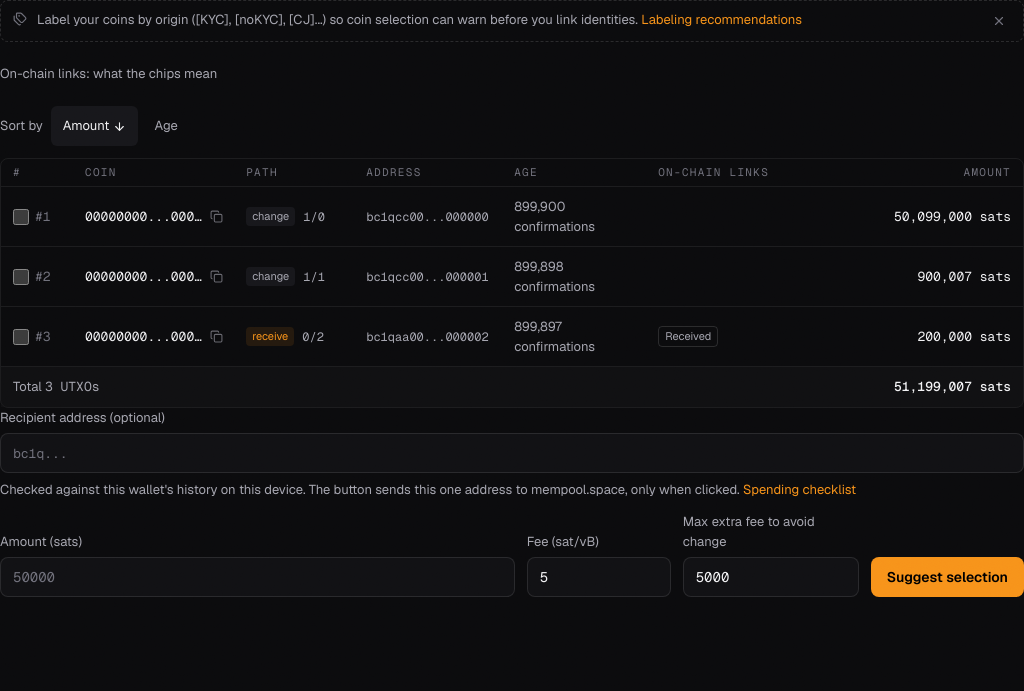
manual coin control › no clean option: Option A and Option B side by side, nothing recommended, and the bar names the option picked
The width and height of the screenshot is (1024, 691).
Click the checkbox labelled "#2" at (21, 276), box [13, 268, 29, 284]
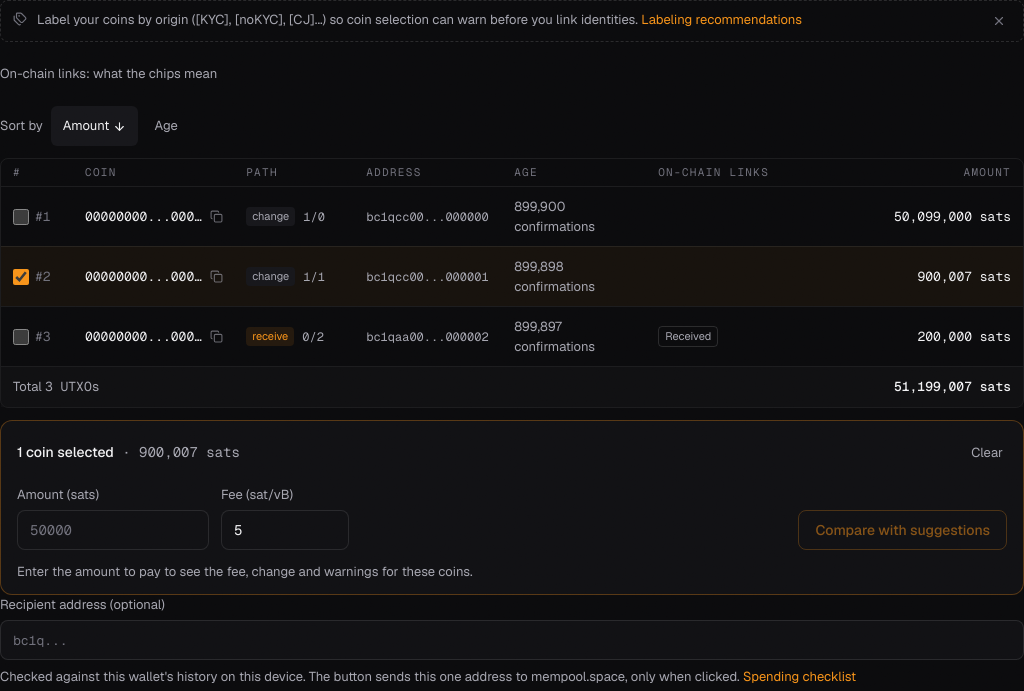
Click the checkbox labelled "#3" at (21, 336), box [13, 328, 29, 344]
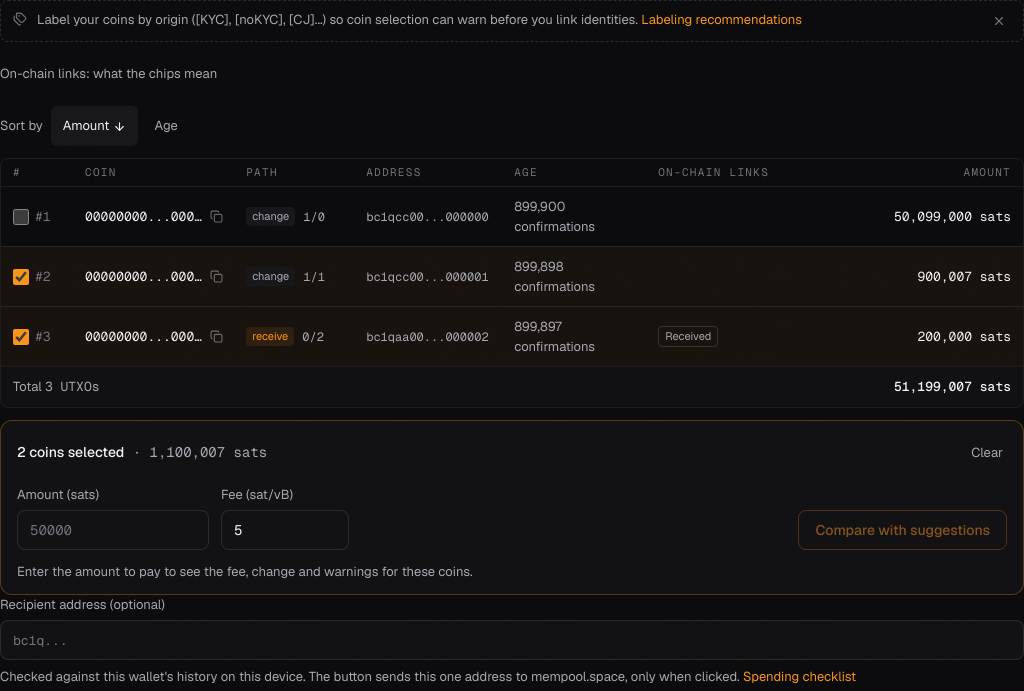
Type "1050000" into the number field labelled "Amount (sats)" below "2 coins selected" at (113, 530), box [17, 510, 209, 550]
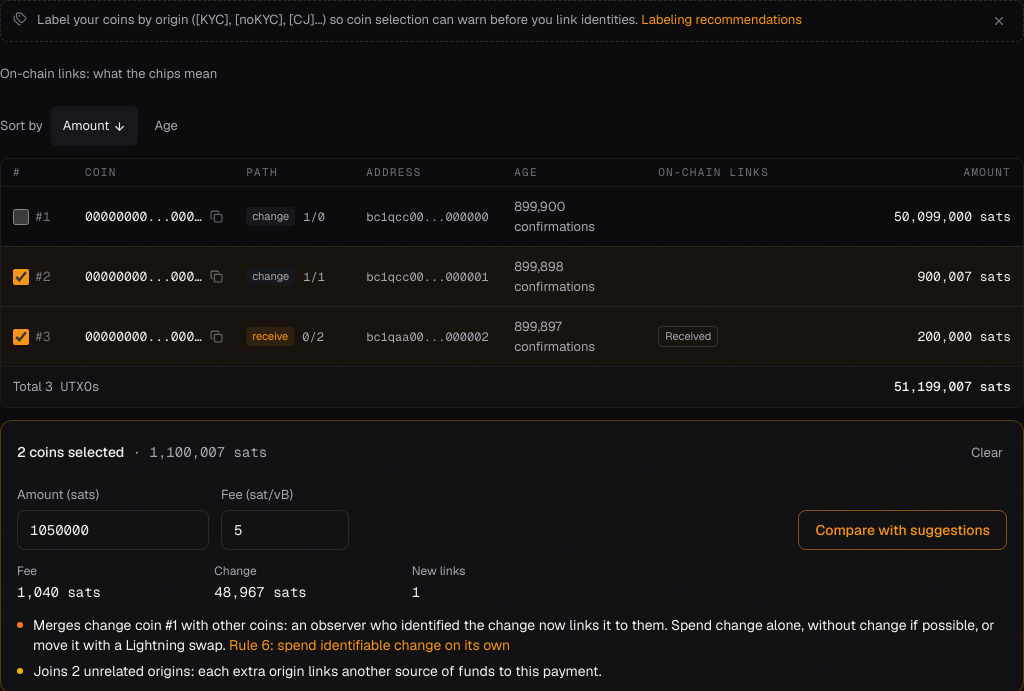
Click the button "Compare with suggestions" at (903, 530), box [798, 510, 1007, 550]
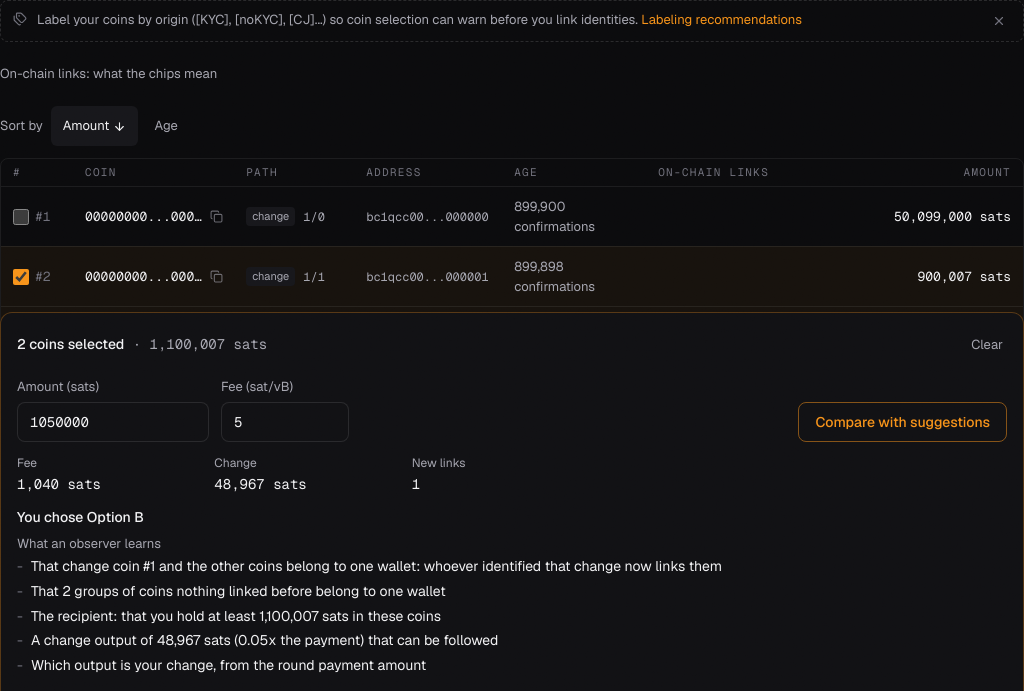
Expected: the element with test id "dilemma-choice" shows "You chose Option B", [17, 508, 144, 526]
